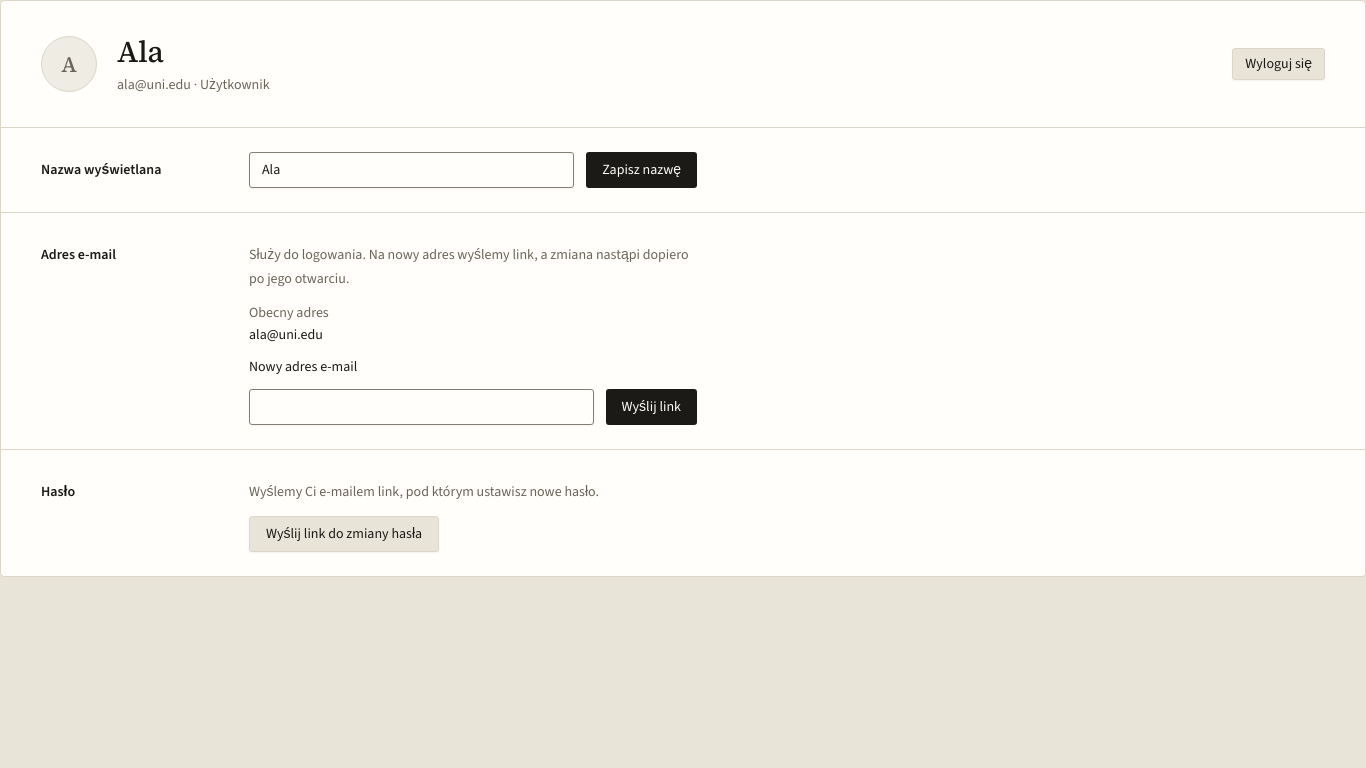
Test: AccountSettings › sends an e-mail change link and confirms where it went
In the field labelled "Nowy adres e-mail": (421, 406) [249,388,594,424], type "ala@new.edu"
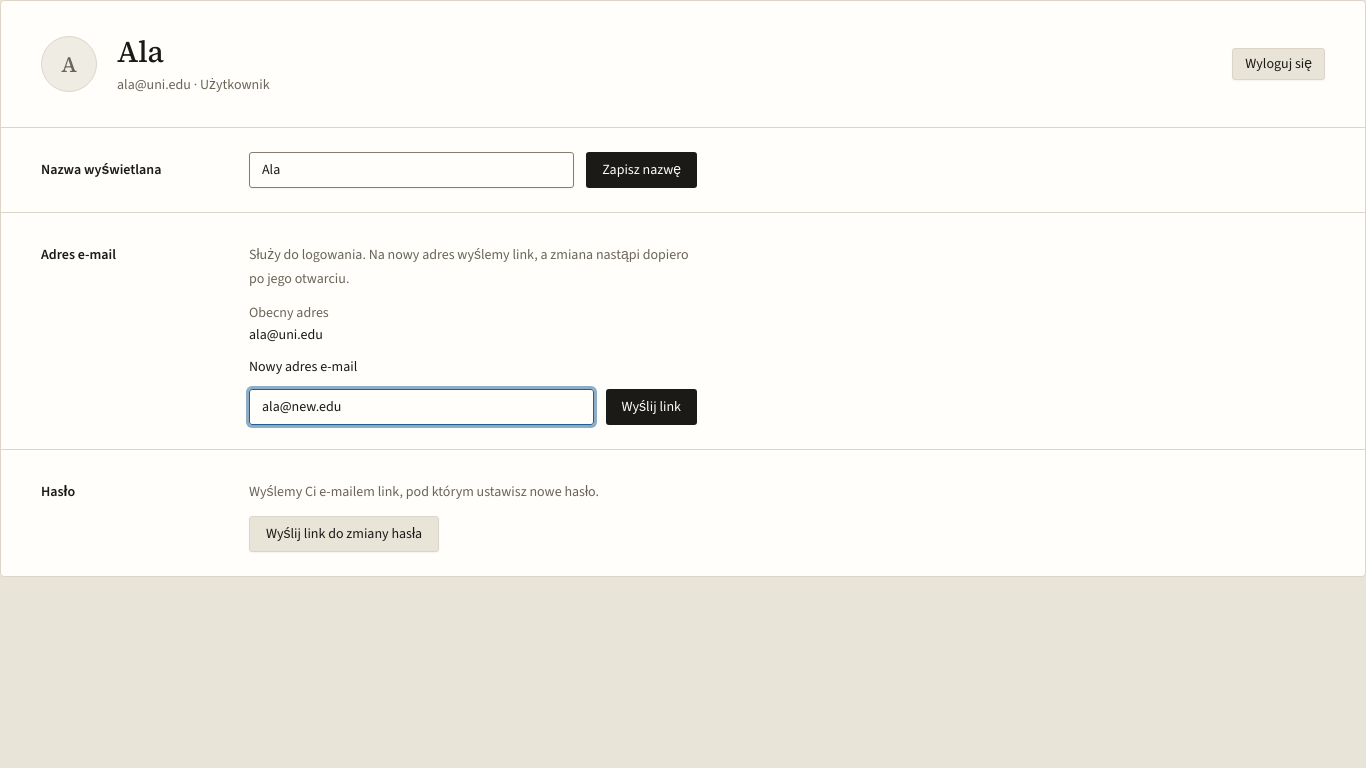
Click the button "Wyślij link": (651, 406) [606,388,697,424]
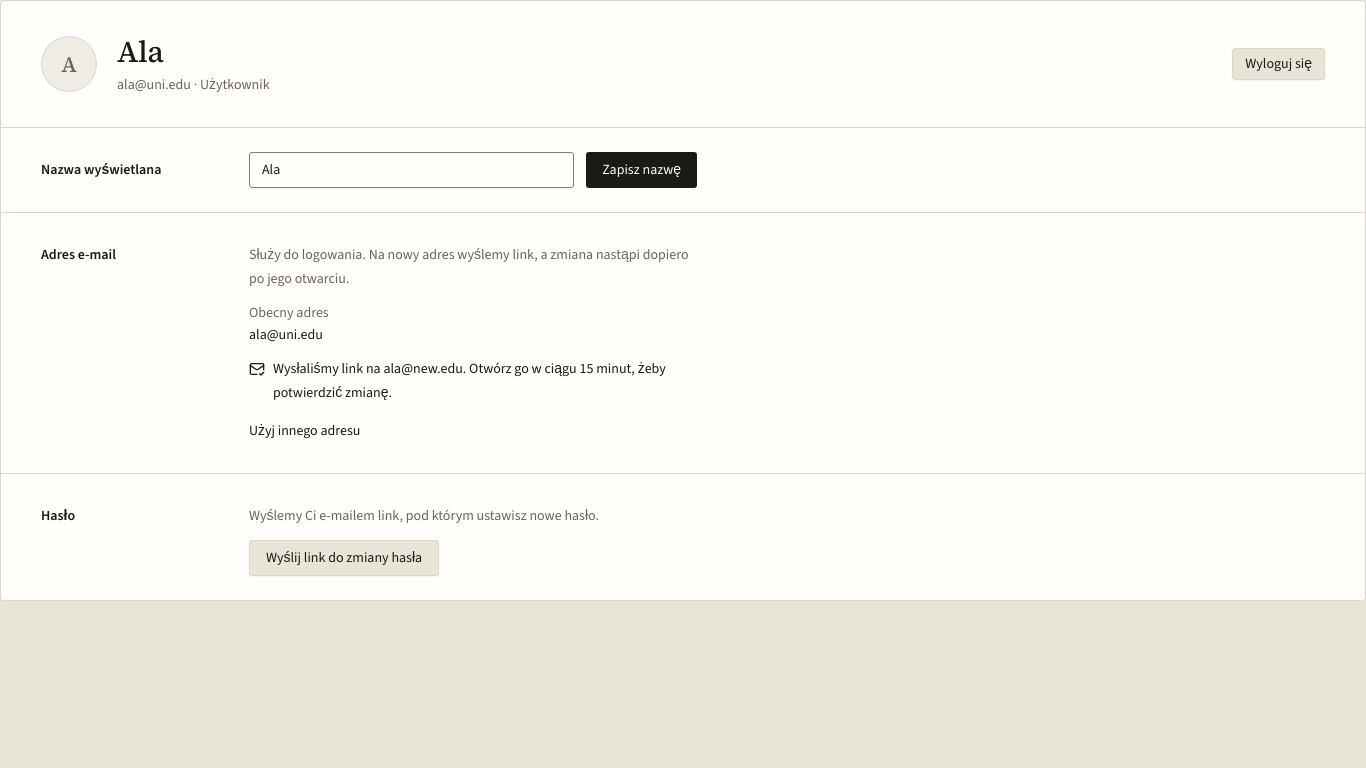
expect the text "Wysłaliśmy link na ala@new.edu" is shown: met, box [273,358,666,402]
